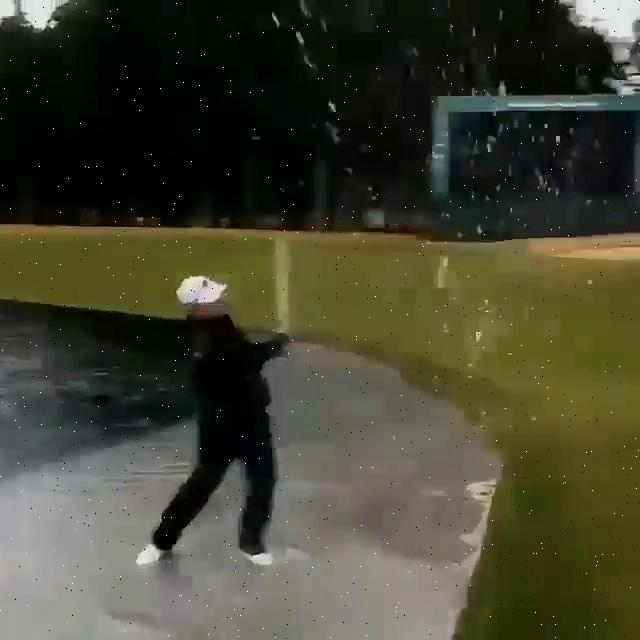ClubHandle: (266, 214, 289, 334)
